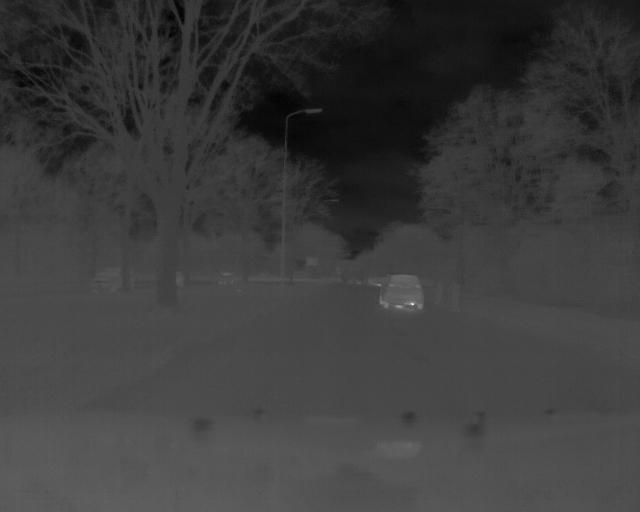car: (375, 269, 428, 313), (87, 263, 137, 296), (215, 268, 240, 286)
